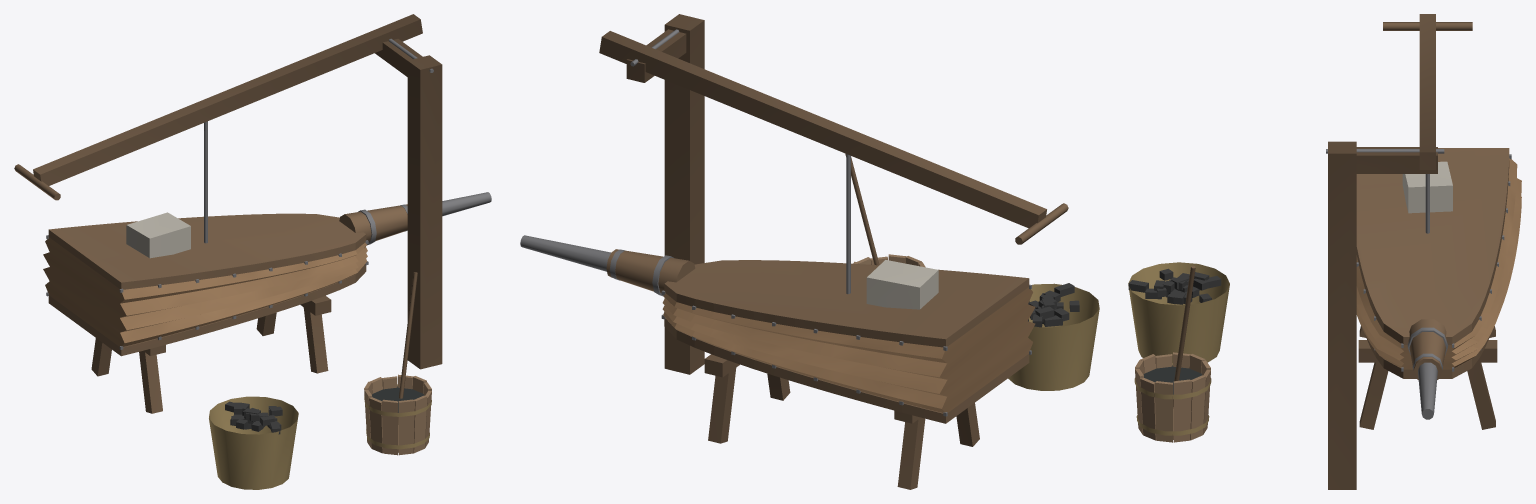
File: kalev_smithy_bellows.glb
The picture shows the model from 3 angles, left to right: view 1: azimuth 30°, elevation 25°; view 2: azimuth 150°, elevation 25°; view 3: azimuth 270°, elevation 25°; orthographic projection. The views are drawn at different scales.
Parts seen in each view (by area): view 1: kalev_smithy_bellows_oak, kalev_smithy_bellows_leather, kalev_smithy_bellows_straw, kalev_smithy_bellows_limestone, kalev_smithy_bellows_iron, kalev_smithy_bellows_charcoal, kalev_smithy_bellows_water; view 2: kalev_smithy_bellows_oak, kalev_smithy_bellows_leather, kalev_smithy_bellows_straw, kalev_smithy_bellows_iron, kalev_smithy_bellows_limestone, kalev_smithy_bellows_charcoal; view 3: kalev_smithy_bellows_oak, kalev_smithy_bellows_straw, kalev_smithy_bellows_leather, kalev_smithy_bellows_iron, kalev_smithy_bellows_limestone, kalev_smithy_bellows_charcoal, kalev_smithy_bellows_water.
Boxes of the visible parts, left/top/right/bottom form: kalev_smithy_bellows_oak: left=14, top=14, right=442, bottom=455; kalev_smithy_bellows_leather: left=43, top=237, right=367, bottom=346; kalev_smithy_bellows_straw: left=209, top=384, right=431, bottom=489; kalev_smithy_bellows_limestone: left=126, top=212, right=190, bottom=258; kalev_smithy_bellows_iron: left=46, top=38, right=491, bottom=349; kalev_smithy_bellows_charcoal: left=225, top=401, right=282, bottom=434; kalev_smithy_bellows_water: left=372, top=386, right=424, bottom=412; kalev_smithy_bellows_oak: left=599, top=14, right=1068, bottom=489; kalev_smithy_bellows_leather: left=662, top=287, right=1035, bottom=412; kalev_smithy_bellows_straw: left=1008, top=283, right=1099, bottom=390; kalev_smithy_bellows_iron: left=520, top=29, right=1031, bottom=416; kalev_smithy_bellows_limestone: left=866, top=260, right=938, bottom=309; kalev_smithy_bellows_charcoal: left=1028, top=283, right=1079, bottom=327; kalev_smithy_bellows_oak: left=1135, top=14, right=1509, bottom=489; kalev_smithy_bellows_straw: left=1128, top=262, right=1229, bottom=435; kalev_smithy_bellows_leather: left=1356, top=158, right=1521, bottom=369; kalev_smithy_bellows_iron: left=1326, top=149, right=1511, bottom=419; kalev_smithy_bellows_limestone: left=1402, top=161, right=1452, bottom=213; kalev_smithy_bellows_charcoal: left=1128, top=268, right=1221, bottom=304; kalev_smithy_bellows_water: left=1143, top=365, right=1201, bottom=394.
Bounding box in the file's own units: 2.89 × 1.88 × 1.93.
